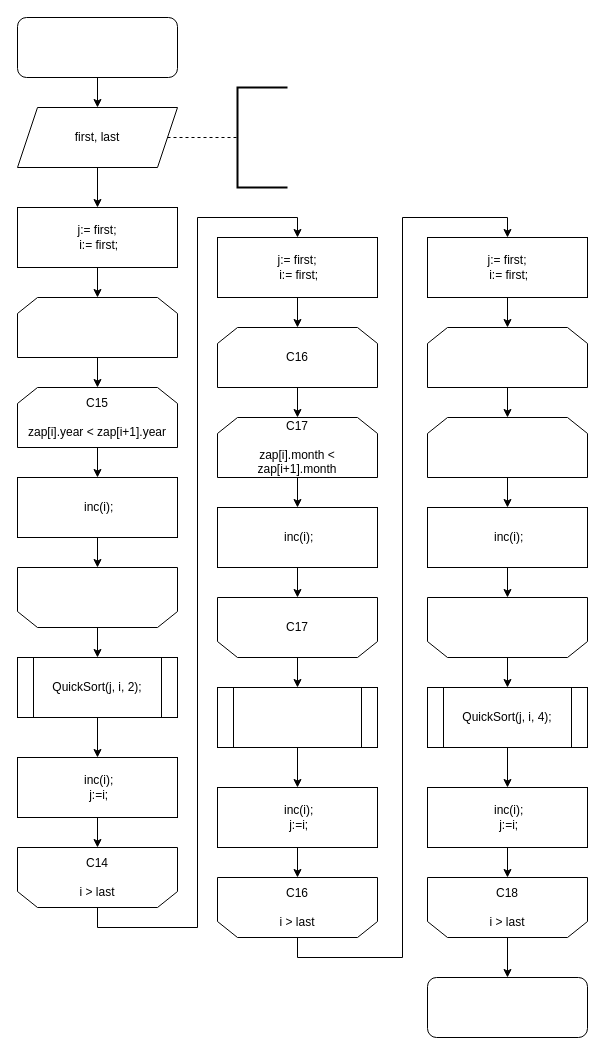
Image size: 605x1055. Some labels were removed from this diagram. Here are the shapes that lost their labels. From the top down, the centre of each, then its label:
(x=97, y=47): Sort НАЧАЛО
(x=262, y=137): first, last - ЧИСЛА ПО ЗНАЧЕНИЮ
(x=97, y=327): C14
(x=507, y=357): C18
(x=507, y=447): C19 zap[i].day < zap[i+1].day
(x=97, y=597): C15
(x=507, y=627): C19
(x=297, y=717): QuickSort(j, i, 3);
(x=507, y=1007): КОНЕЦ Sort
